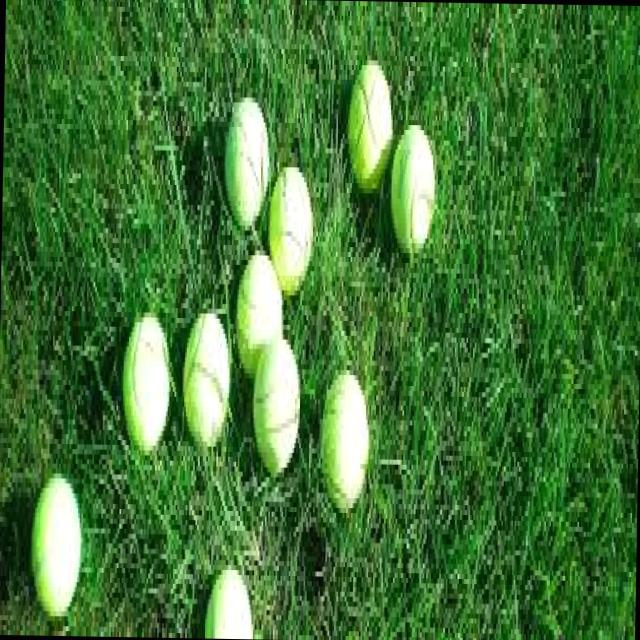Tennis Ball: (120, 309, 170, 452), (319, 370, 369, 508), (32, 476, 80, 613), (182, 312, 229, 449), (252, 337, 300, 467), (222, 96, 269, 226), (346, 60, 394, 187), (236, 252, 282, 377), (267, 168, 313, 290), (390, 128, 434, 250), (203, 568, 255, 638)
